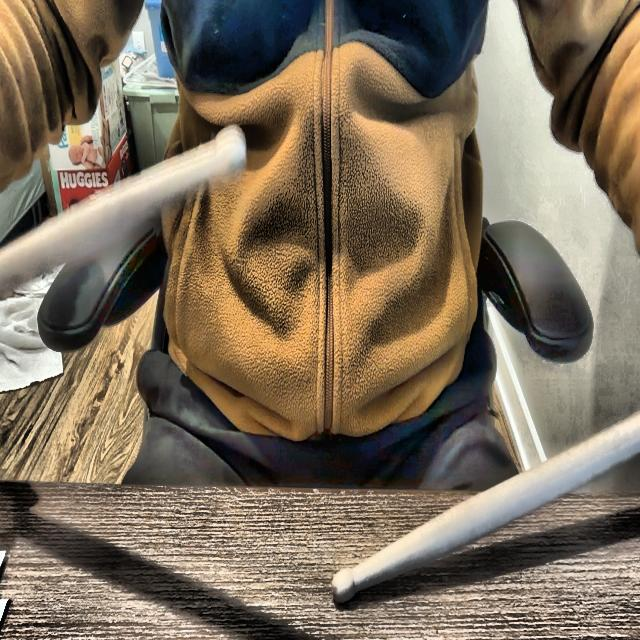Drumstick-Heads: (214, 120, 249, 182), (332, 561, 356, 613)
